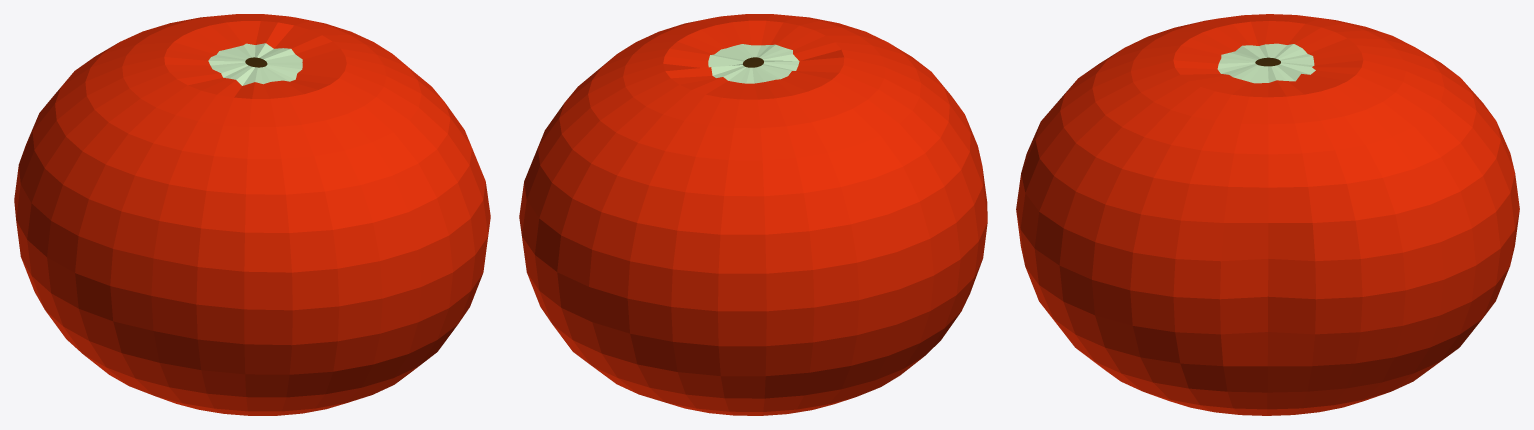
The model's file is Tomato.fbx.
3 views of the same model, side by side, from view 1: azimuth 30°, elevation 25°; view 2: azimuth 150°, elevation 25°; view 3: azimuth 270°, elevation 25° (orthographic).
Parts seen in each view (by area): view 1: Sphere; view 2: Sphere; view 3: Sphere.
Boxes of the visible parts, x1=… form: Sphere: x1=14, y1=14, x2=490, y2=415; Sphere: x1=519, y1=14, x2=987, y2=415; Sphere: x1=1016, y1=14, x2=1519, y2=415.
Bounding box in the file's own units: 57.6 × 44.05 × 63.47.
